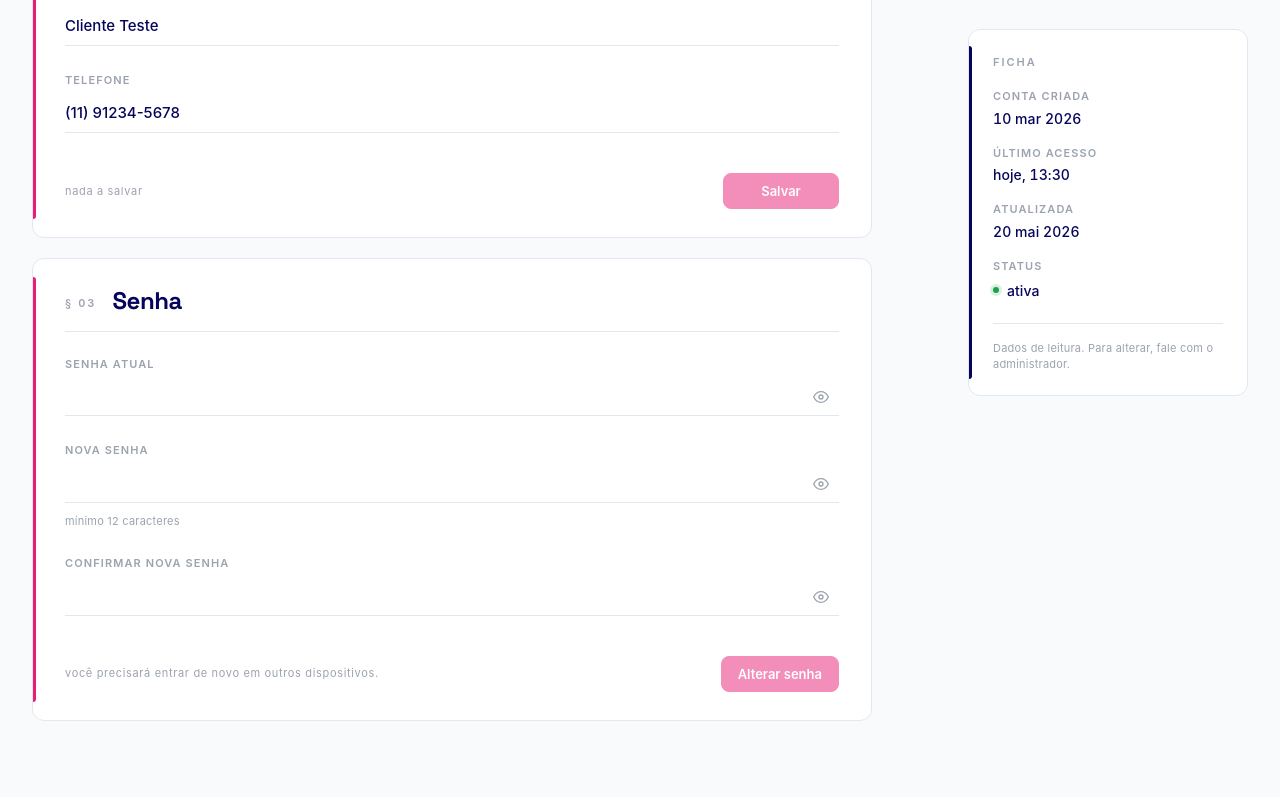
Test: AccountPage › senha atual errada: toast com o erro do servidor e campos preservados
This screenshot has width=1280, height=797.
(page scrolled)
Type "errada-errada-1" into the password field labelled "senha atual".
click(452, 397); type("errada-errada-1")  # box [65, 378, 839, 416]
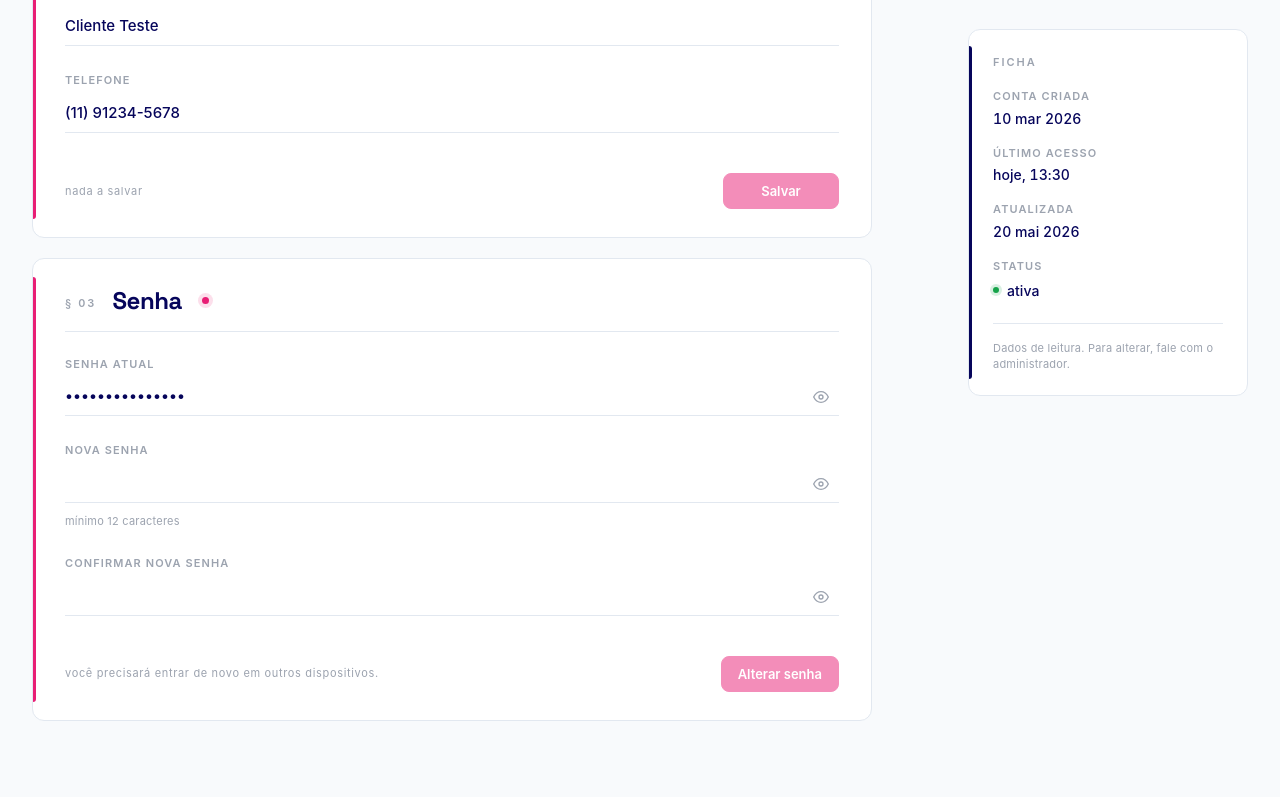
Type "Nova-senha-forte-1" into the password field labelled "nova senha".
click(452, 484); type("Nova-senha-forte-1")  # box [65, 464, 839, 502]
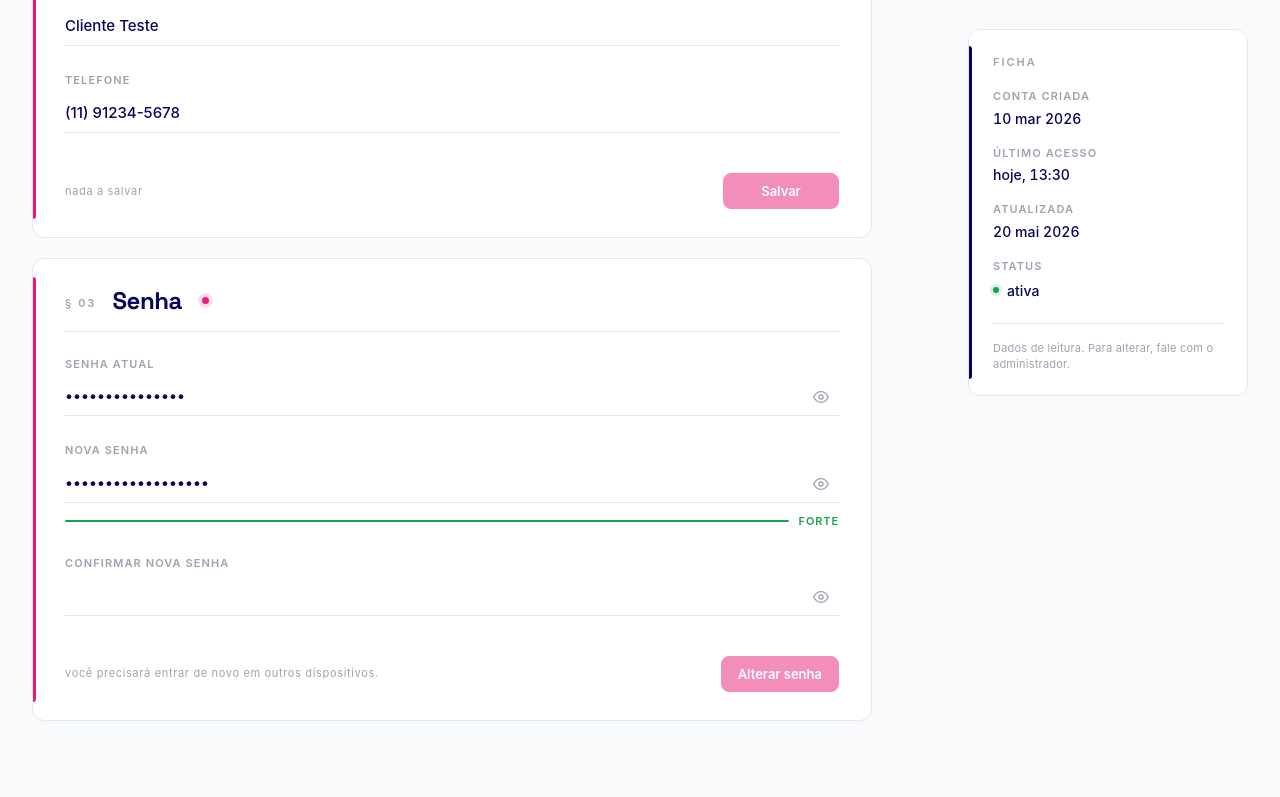
Type "Nova-senha-forte-1" into the password field labelled "confirmar nova senha".
click(452, 596); type("Nova-senha-forte-1")  # box [65, 578, 839, 616]
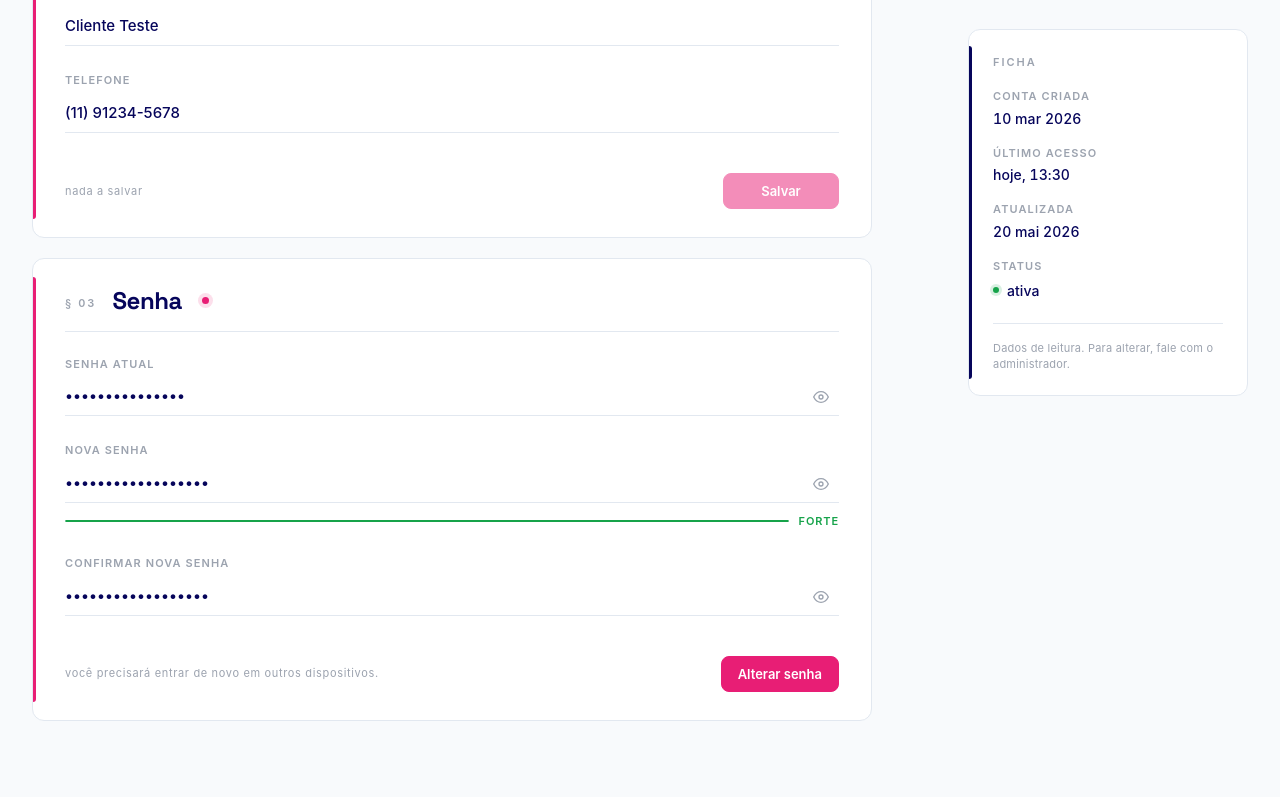
Click the button "Alterar senha".
click(780, 674)  # box [721, 656, 839, 692]
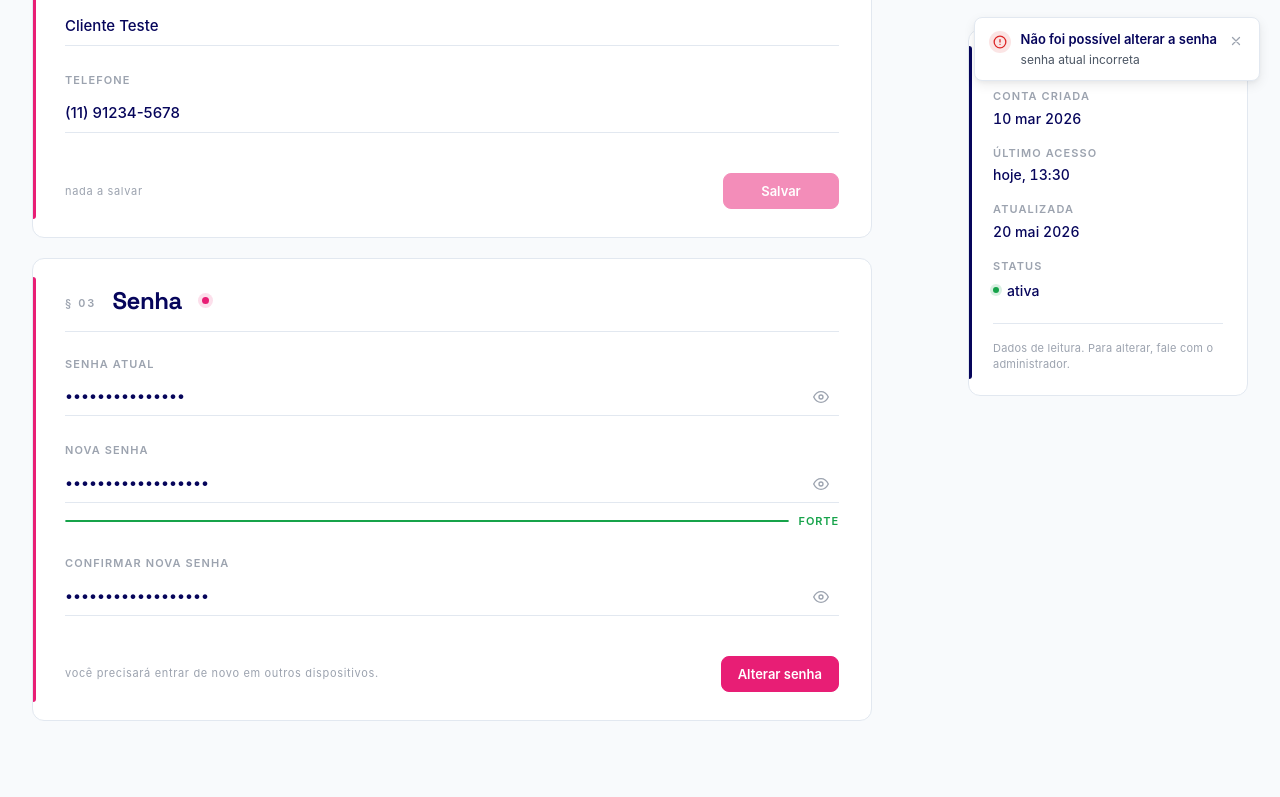
Result: the text "Não foi possível alterar a senha" is shown at [1021, 30, 1217, 50]
Result: the text "senha atual incorreta" is shown at [1021, 52, 1140, 66]
